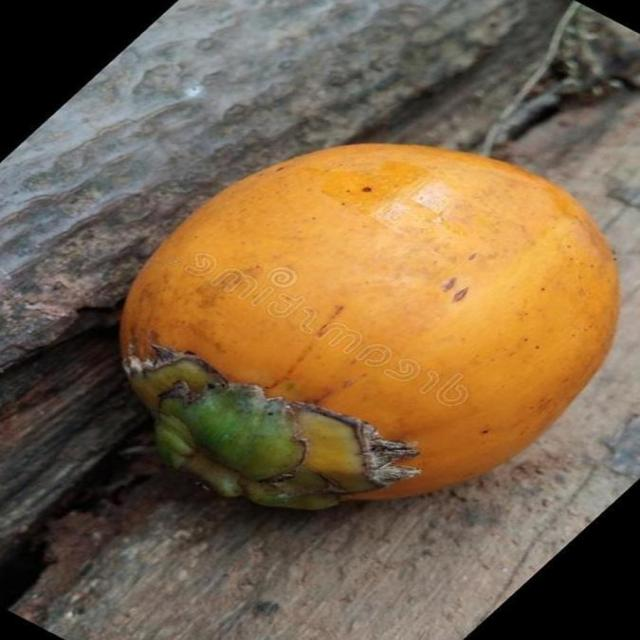good: (119, 144, 620, 513)
